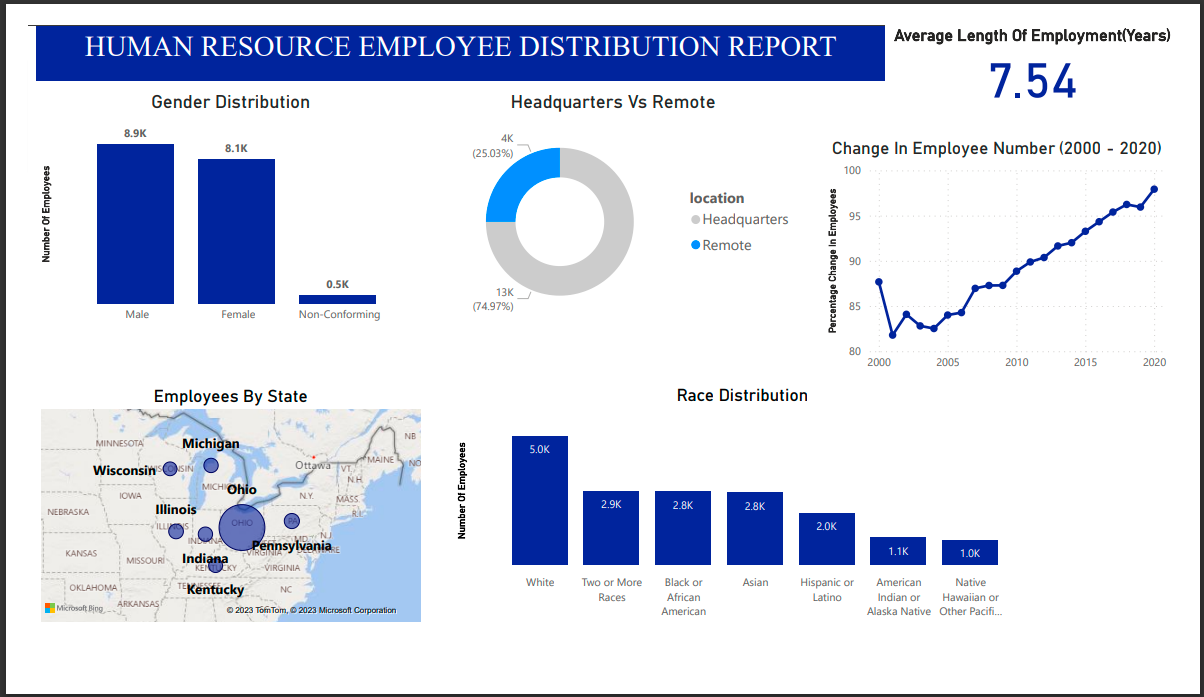

The page's visual inventory and layout, read from the dashboard file:
{"tool":"powerbi","page":{"name":"Page 1","canvas":[1280,720],"ordinal":0},"visuals":[{"type":"textbox","box":[10.4,0,942.7,61.2],"z":0},{"type":"card","title":"Average Length Of Employment(Years)","fields":{"Values":["Sum(avg_length_employment (2).avg_length_employment)"]},"box":[953.1,0,326.5,86.5],"z":1000},{"type":"columnChart","title":"Gender Distribution","fields":{"Category":["gender.gender"],"Y":["Sum(gender.count)"]},"box":[10.4,72.7,431.5,266.5],"z":2000},{"type":"donutChart","title":"Headquarters Vs Remote","fields":{"Y":["Sum(location.count)"],"Category":["location.location"]},"box":[441.9,72.7,417.7,267.7],"z":3000},{"type":"lineChart","title":"Change In Employee Number (2000 - 2020)","fields":{"Category":["employee_change.year"],"Y":["Sum(employee_change.net_change_percent)"]},"box":[883.8,124.6,386.5,267.7],"z":4000},{"type":"map","title":"Employees By State","fields":{"Size":["Sum(state.count)"],"Category":["state.location_state"]},"box":[10,399.5,432,267],"z":5000},{"type":"clusteredColumnChart","title":"Race Distribution","fields":{"Category":["race.race"],"Y":["Sum(race.count)"]},"box":[471.9,399.2,645,266.5],"z":6000}]}

Visuals, with their boxes in screenshot pixels (x1, y1, x2, y2), scaled from the page's 1280x720 canvas onto the 1204x697 screenshot:
textbox: (10, 0, 897, 59)
"Average Length Of Employment(Years)" card: (897, 0, 1203, 84)
"Gender Distribution" columnChart: (10, 70, 416, 328)
"Headquarters Vs Remote" donutChart: (416, 70, 809, 330)
"Change In Employee Number (2000 - 2020)" lineChart: (831, 121, 1195, 380)
"Employees By State" map: (9, 387, 416, 645)
"Race Distribution" clusteredColumnChart: (444, 386, 1051, 644)
